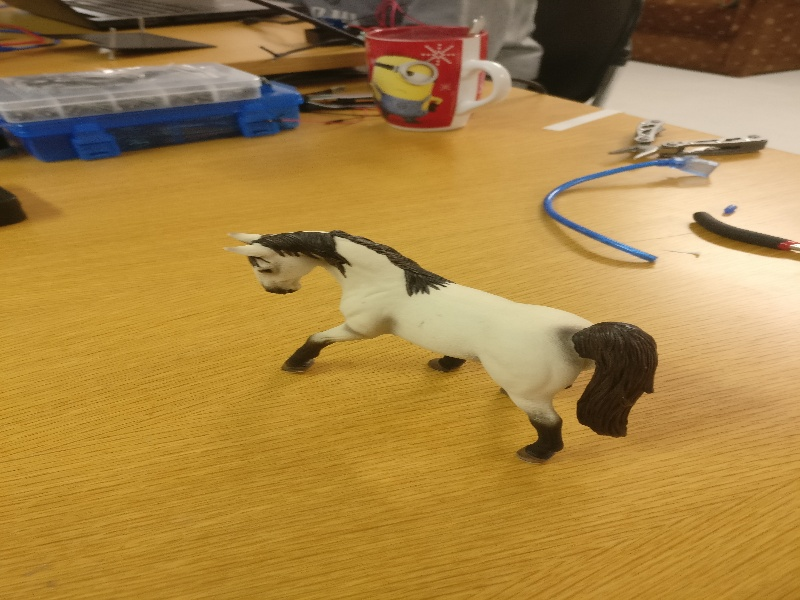toy: (223, 210, 660, 465)
